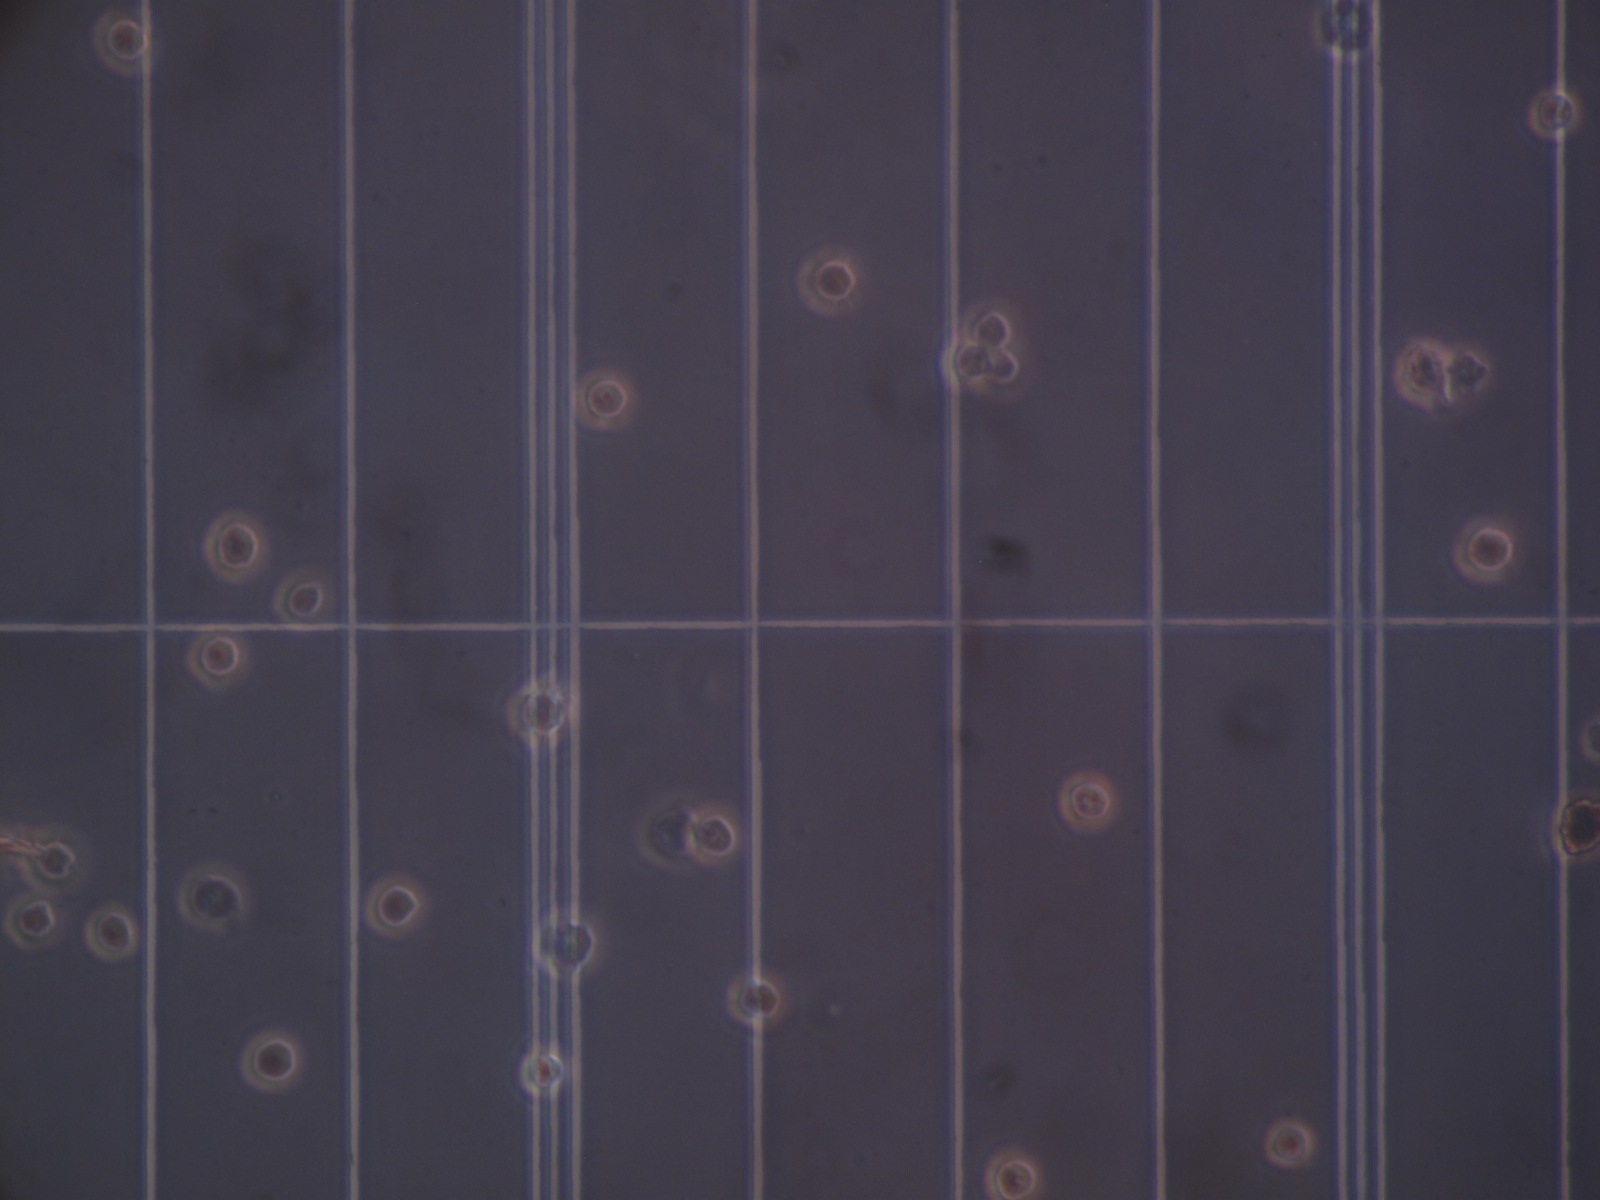hemo: (632, 793, 697, 874), (176, 863, 247, 935), (21, 822, 88, 897), (88, 9, 157, 79), (203, 511, 268, 585), (535, 908, 598, 982), (796, 243, 860, 315), (504, 679, 576, 742), (1450, 516, 1512, 587), (364, 871, 428, 939), (1308, 1, 1380, 62), (273, 566, 335, 634), (186, 629, 249, 692), (1, 887, 66, 949), (571, 366, 632, 429), (242, 1029, 302, 1093), (1550, 788, 1600, 865), (1056, 766, 1114, 833), (1395, 337, 1444, 408), (726, 968, 787, 1025), (1527, 84, 1582, 144), (939, 334, 990, 392), (985, 1147, 1043, 1199), (84, 905, 137, 959), (961, 297, 1020, 345), (695, 805, 743, 865), (1264, 1119, 1314, 1168), (981, 345, 1023, 401), (518, 1049, 567, 1094), (1449, 344, 1488, 400)
